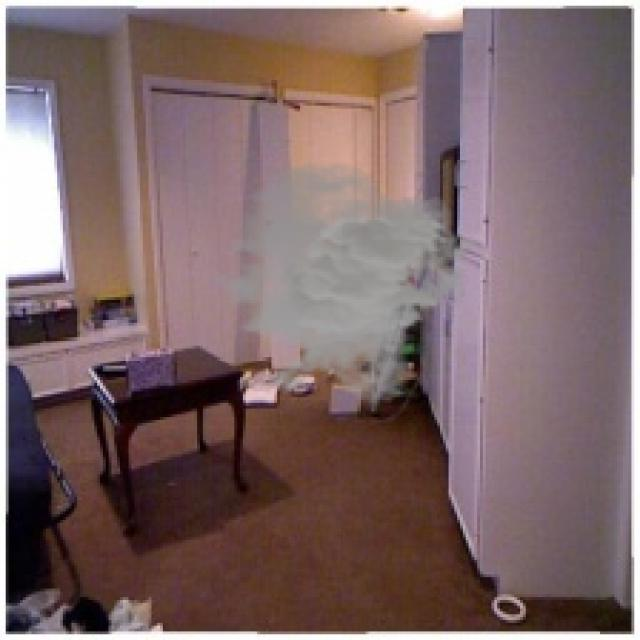smoke: (197, 160, 480, 406)
